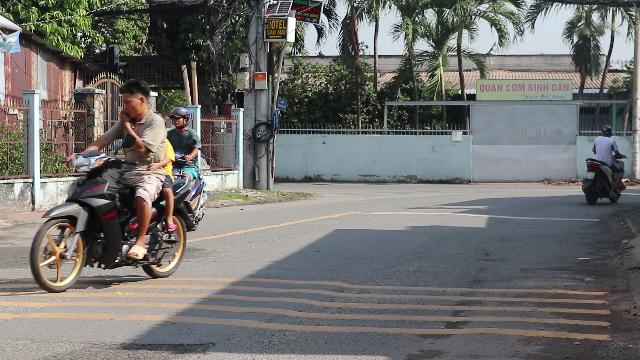helmet: (169, 106, 191, 130)
motorcyclist: (23, 74, 198, 292), (162, 105, 208, 231)
nohelmet: (118, 78, 152, 118)
